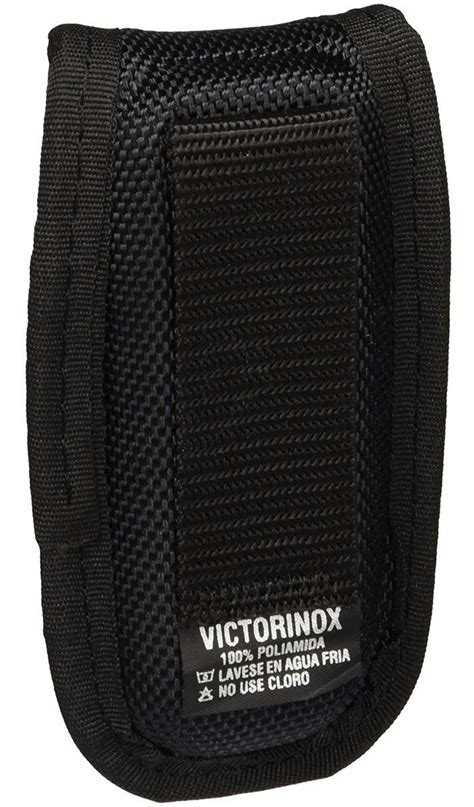nylon: (30, 3, 452, 802)
